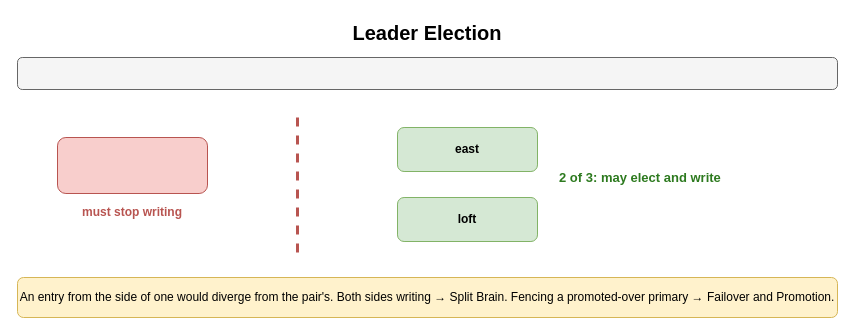
This 855x335 diagram has some shape labels left out. Here are the shapes that lost their labels. From the top down, the centre of each, then its label:
At (427,73): "A majority of the three coordination nodes chooses the one schedule writer".
At (132,165): "west 1 of 3".
